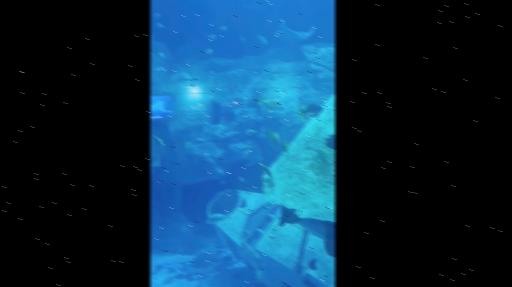Fish: (279, 206, 335, 256), (279, 20, 314, 42), (299, 104, 323, 120), (302, 104, 323, 116), (208, 213, 230, 223), (260, 97, 280, 107), (261, 162, 271, 176), (269, 131, 279, 144), (327, 134, 335, 149), (154, 135, 164, 145), (151, 157, 161, 167), (259, 34, 267, 43), (310, 258, 316, 269), (244, 148, 251, 157), (284, 139, 289, 151), (246, 129, 256, 134), (158, 22, 165, 28), (208, 34, 216, 39), (155, 66, 164, 70), (185, 141, 190, 148), (206, 49, 212, 54), (220, 25, 226, 30), (154, 13, 160, 18), (239, 177, 245, 181), (160, 52, 164, 57), (220, 179, 225, 183), (276, 31, 281, 35), (268, 109, 274, 112), (242, 37, 244, 42)
